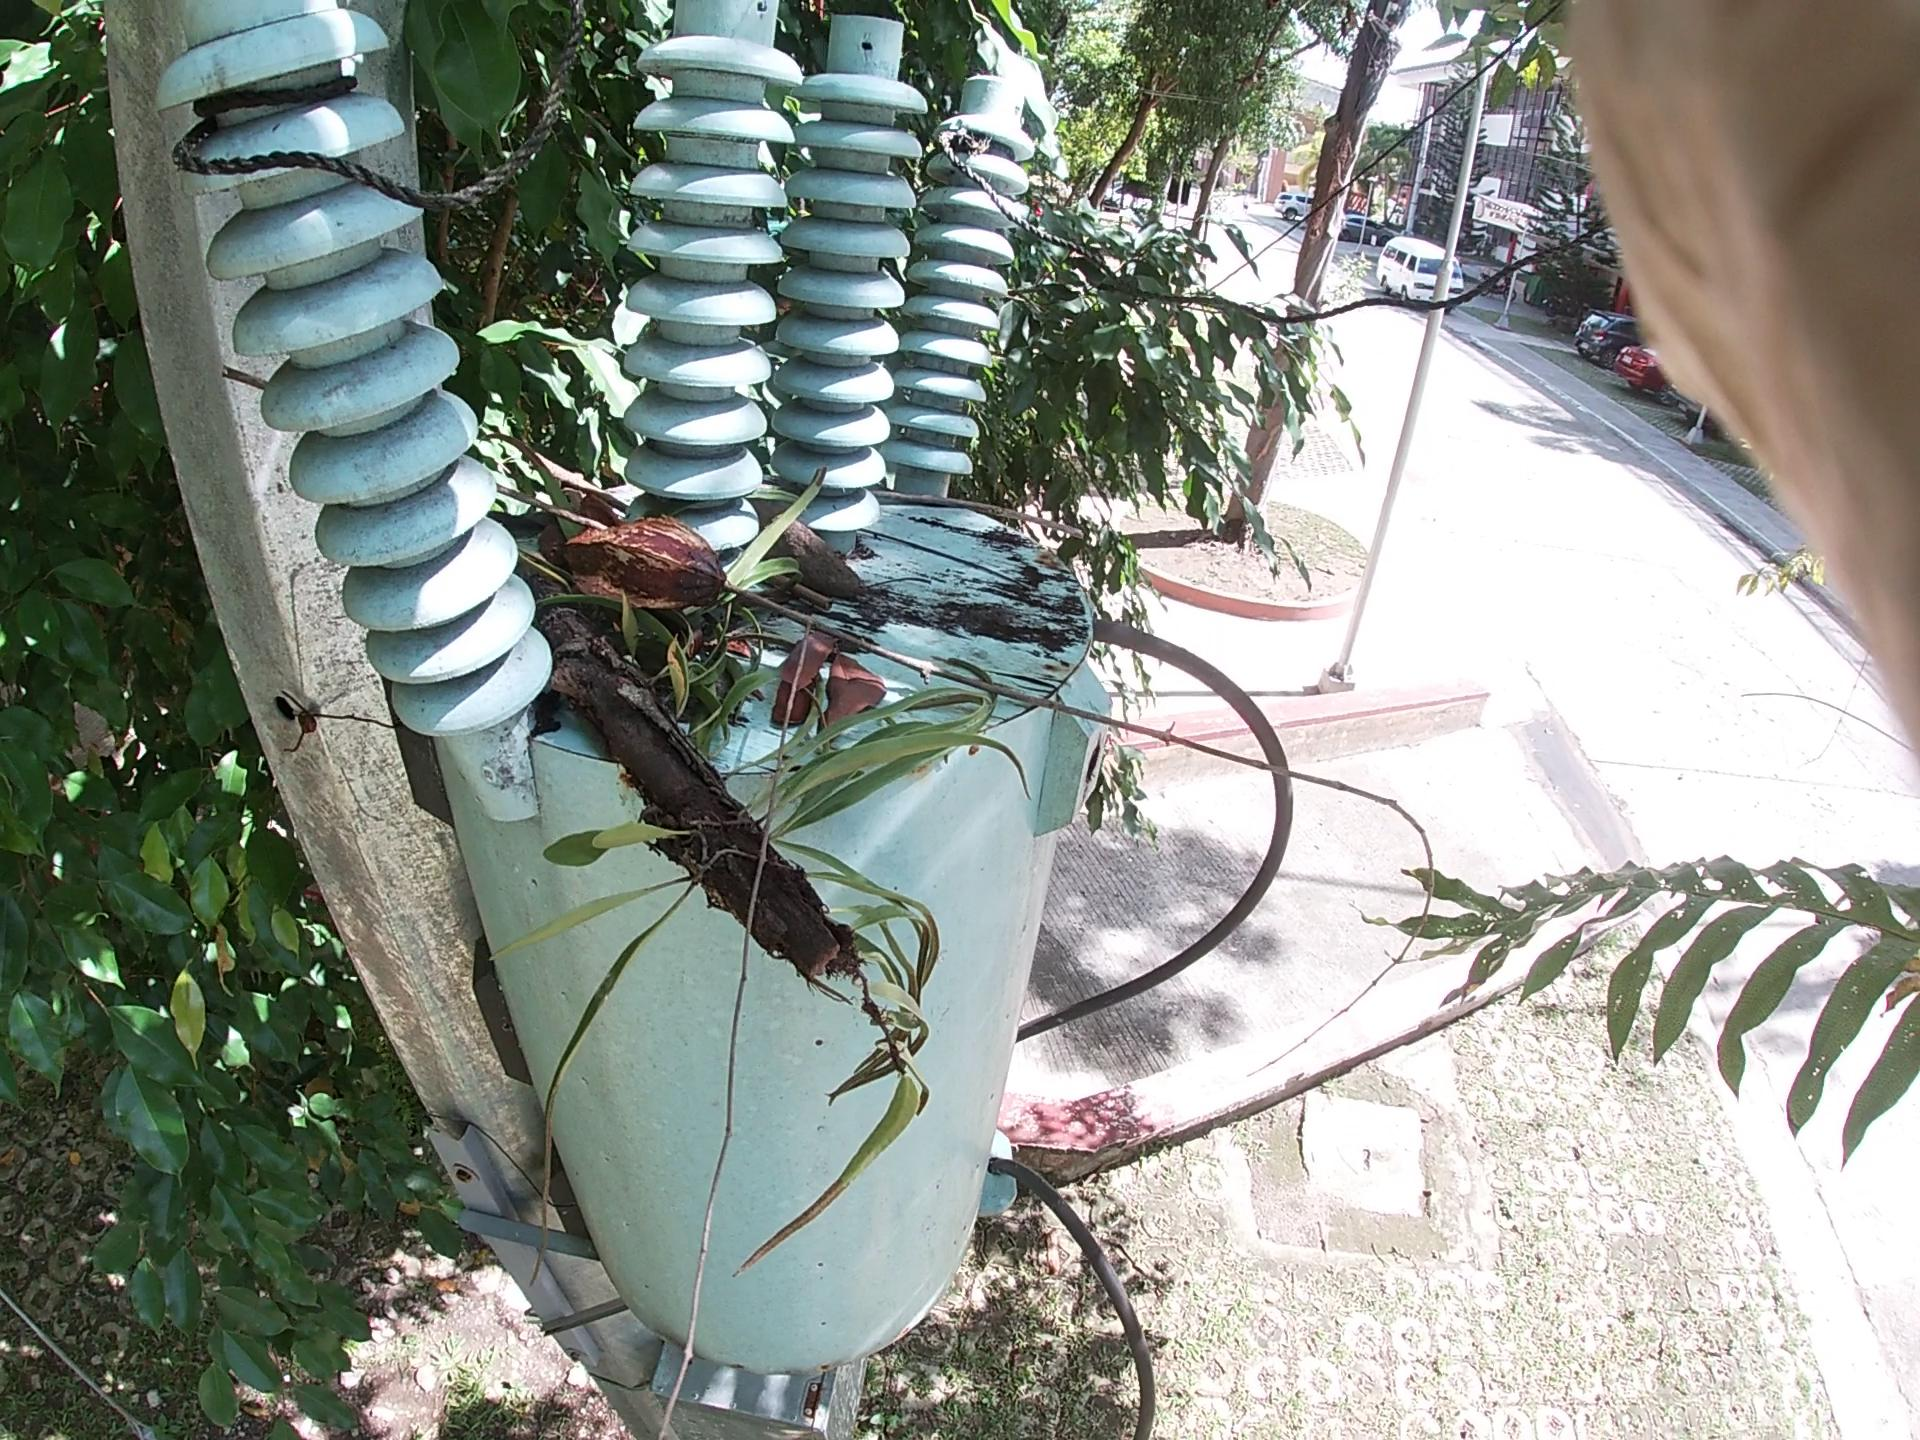branch with leaves: (414, 520, 1043, 1113)
leaf: (803, 602, 874, 735)
mahogany fruit: (701, 430, 906, 619), (525, 469, 692, 622)
tree branch: (395, 433, 1568, 883), (865, 476, 1114, 546), (712, 549, 841, 620)
